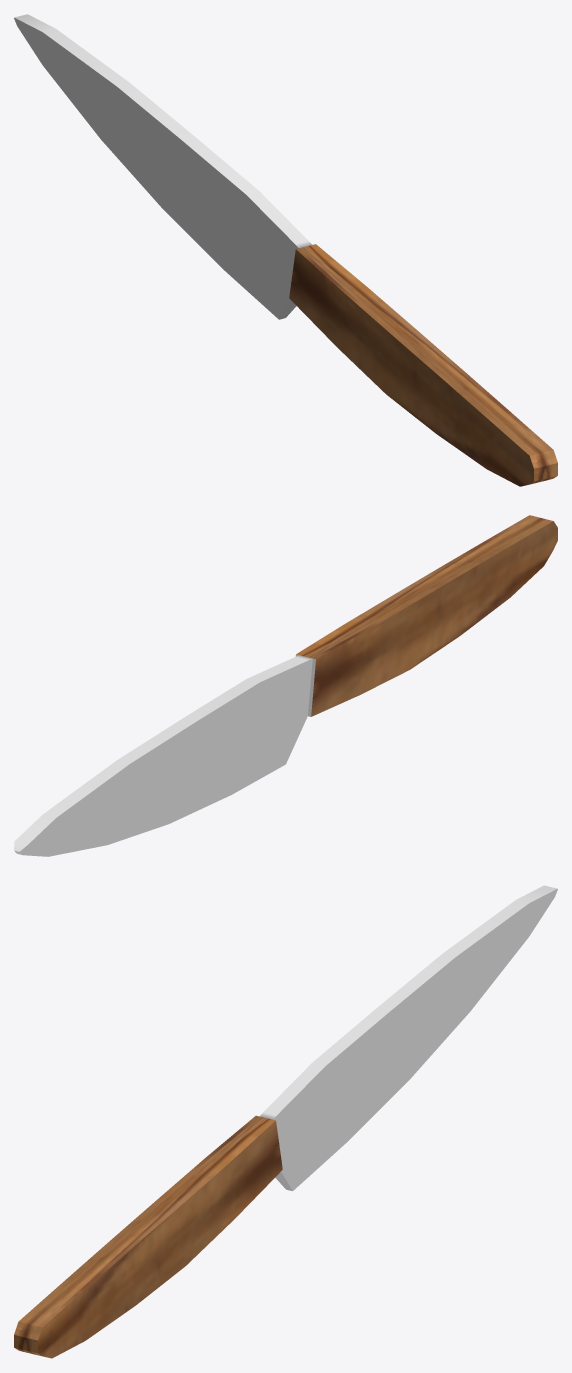
The model's file is kinfyyy.fbx.
The picture shows the model from 3 angles, top to bottom: view 1: azimuth 30°, elevation 25°; view 2: azimuth 150°, elevation 25°; view 3: azimuth 330°, elevation 25°; orthographic projection.
Parts seen in each view (by area): view 1: knife 1.002; view 2: knife 1.002; view 3: knife 1.002.
Part boxes in pixels (bbox=[...]): knife 1.002: bbox=[14, 14, 557, 486]; knife 1.002: bbox=[14, 515, 557, 856]; knife 1.002: bbox=[14, 885, 557, 1358].
Size of the model in its own units: 0.00957 by 0.0448 by 0.3636.
